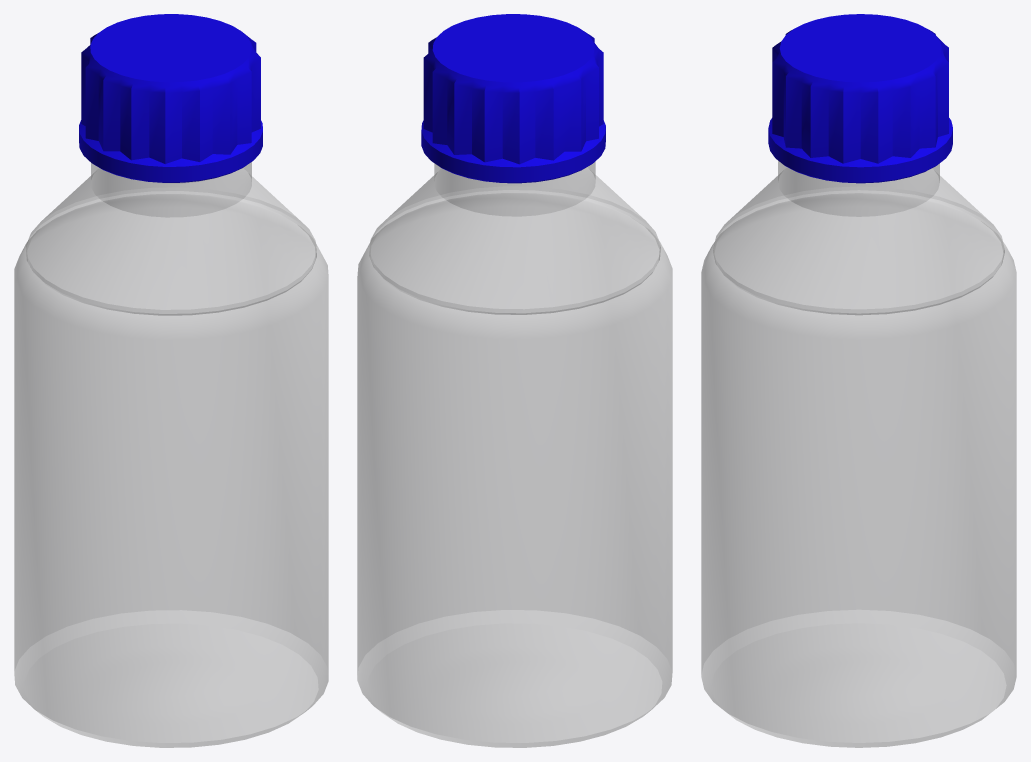
Rendered from Bottle.fbx.
3 views of the same model, side by side, from view 1: azimuth 30°, elevation 25°; view 2: azimuth 150°, elevation 25°; view 3: azimuth 270°, elevation 25° (orthographic).
Visible parts, largest first — view 1: Bottle, Lid; view 2: Bottle, Lid; view 3: Bottle, Lid.
Part boxes in pixels (x1,y1,x2,y2): Bottle: (14, 162, 328, 747); Lid: (79, 14, 262, 182); Bottle: (357, 161, 672, 747); Lid: (421, 14, 605, 183); Bottle: (701, 161, 1016, 747); Lid: (768, 14, 952, 183).
Size of the model in its own units: 814 by 1814 by 814.
